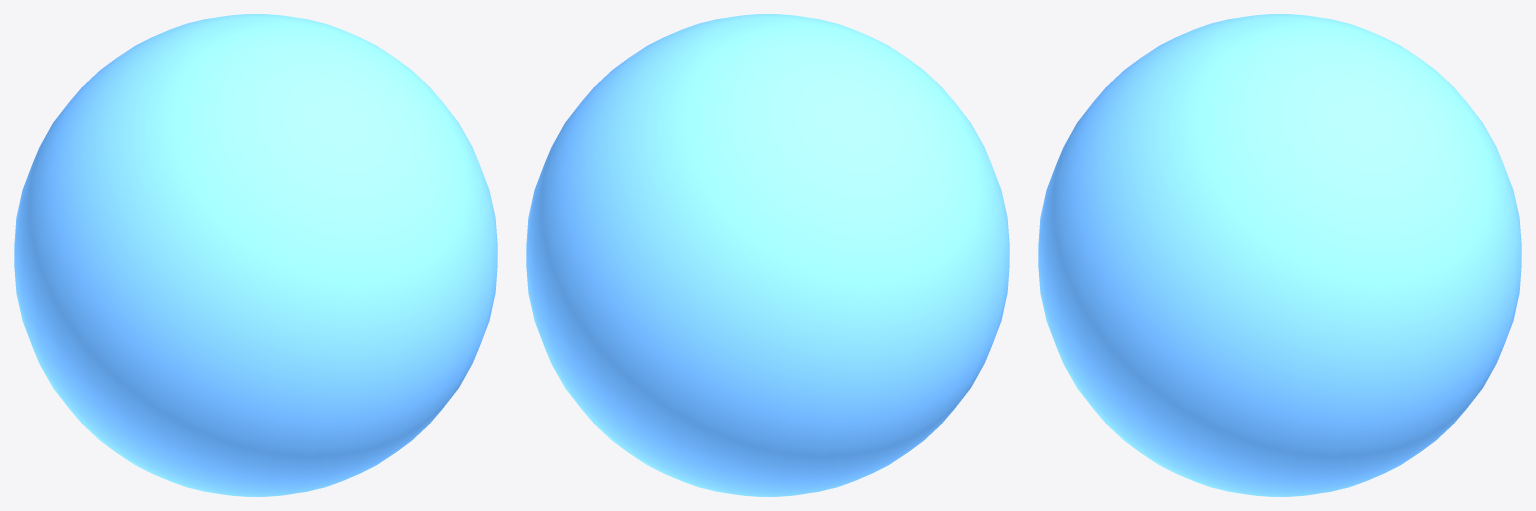
3 renders of one model, left to right at view 1: azimuth 30°, elevation 25°; view 2: azimuth 150°, elevation 25°; view 3: azimuth 270°, elevation 25°, orthographic.
Parts seen in each view (by area): view 1: Sphere-whole; view 2: Sphere-whole; view 3: Sphere-whole.
Part boxes in pixels (left/top/right/bottom): Sphere-whole: left=14, top=14, right=497, bottom=496; Sphere-whole: left=526, top=14, right=1009, bottom=496; Sphere-whole: left=1038, top=14, right=1521, bottom=496.
Bounding box in the file's own units: 0.0332 × 0.0332 × 0.0332.
